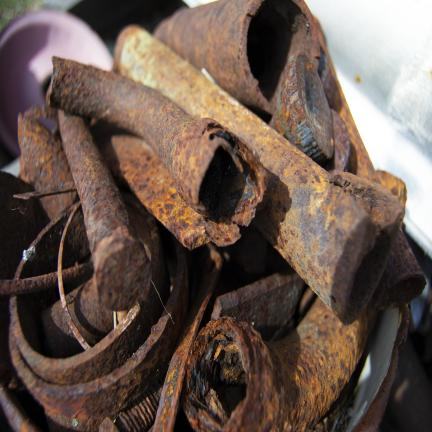karat: (6, 0, 425, 432)
